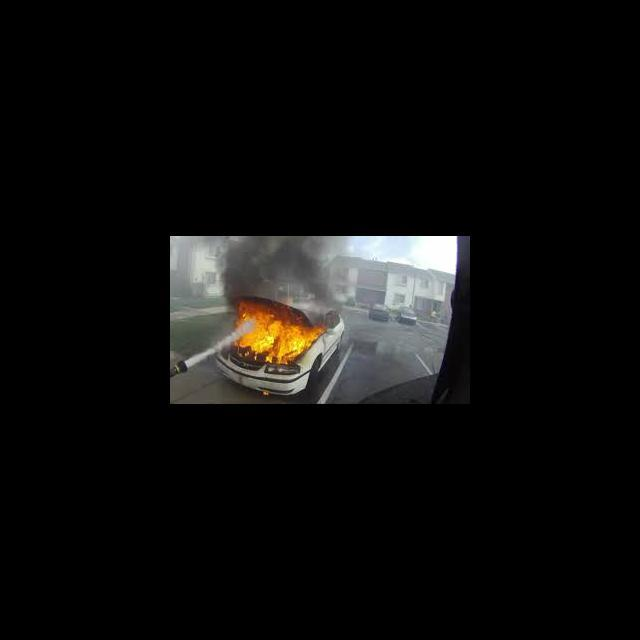Fire: (226, 297, 330, 366)
Smoke: (220, 237, 341, 297)
